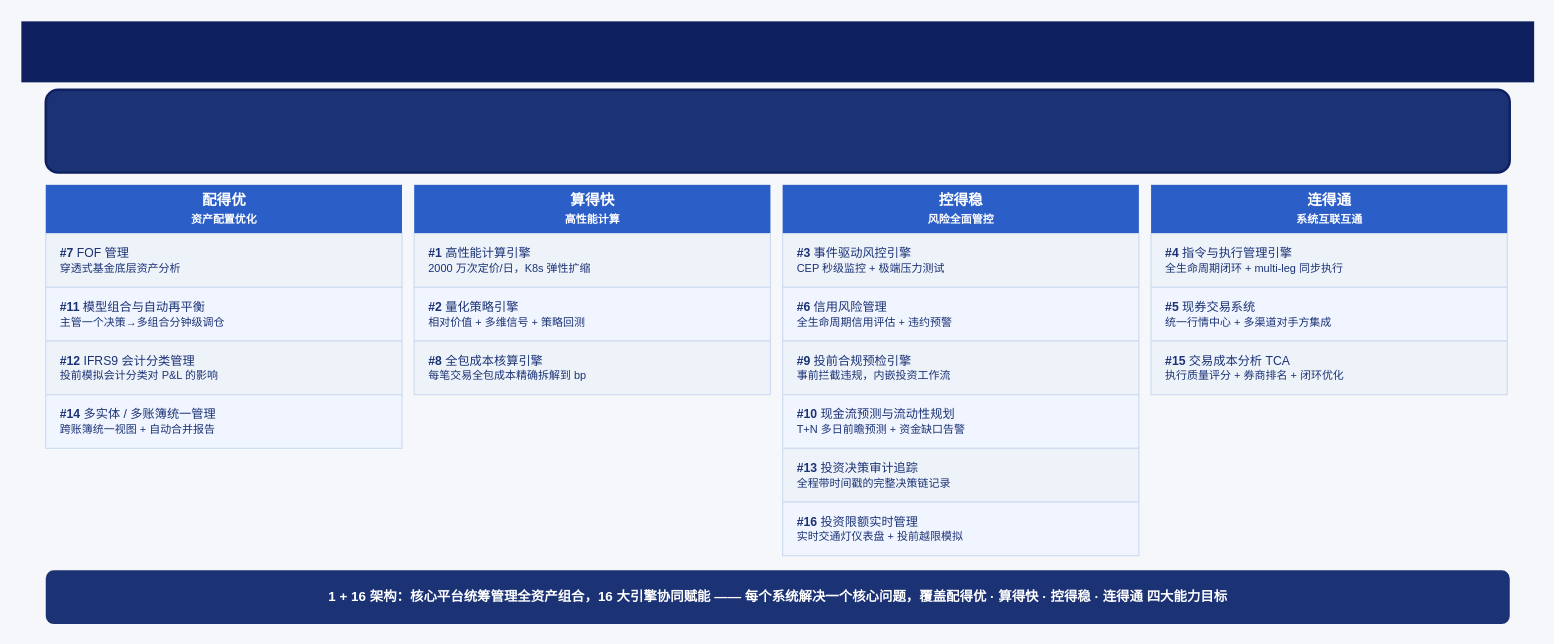
Image size: 1554x644. Some labels were removed from this diagram. Each missing label, with the centre of its shape:
"POMS 1 + 16 产品架构 1 个核心管理平台 + 16 大协同引擎 · 覆盖国元五大跃升目标" goes at pixel 777 51.
"核心管理平台（Core） 全资产组合管理 · 实时持仓 IBOR · 估值引擎 · 绩效归因 · 报告中心 · 基准管理 · 多维视图仪表盘" goes at pixel 777 130.
